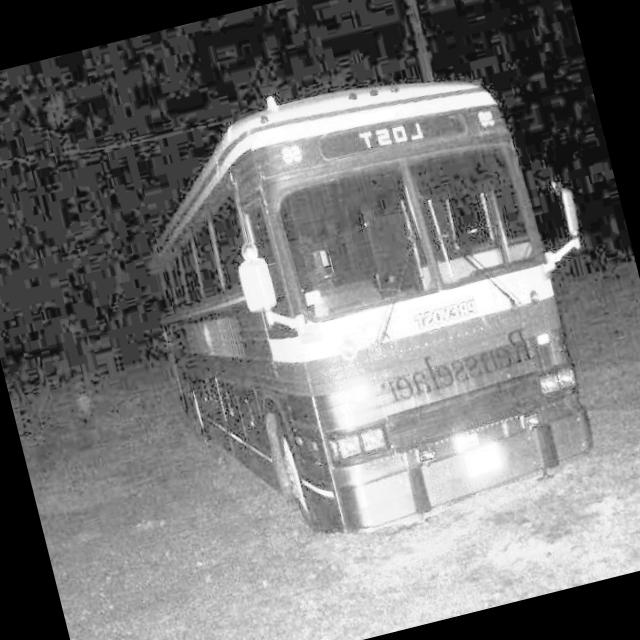Bus: (98, 23, 640, 630)
